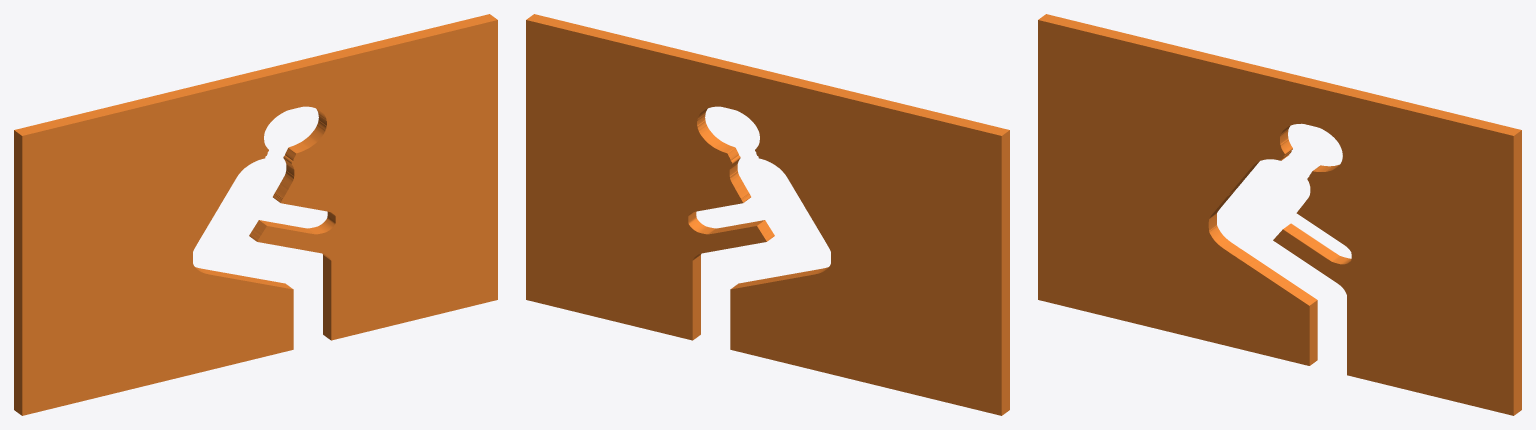
The model's file is StickBending.fbx.
3 views of the same model, side by side, from view 1: azimuth 30°, elevation 25°; view 2: azimuth 150°, elevation 25°; view 3: azimuth 330°, elevation 25° (orthographic).
Parts seen in each view (by area): view 1: Curve; view 2: Curve; view 3: Curve.
Boxes of the visible parts, x1,y1,x2,y2 form: Curve: (14,14,497,415); Curve: (526,14,1009,415); Curve: (1038,14,1521,415).
Size of the model in its own units: 677 by 381 by 20.
